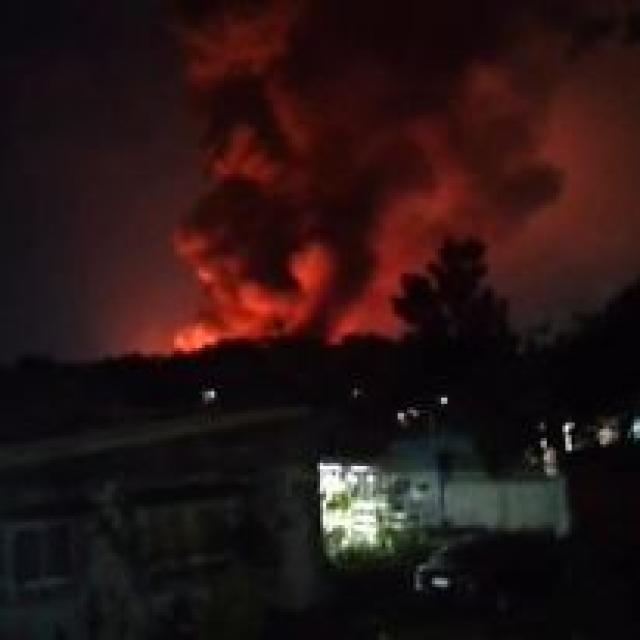Fire: (164, 311, 342, 348)
Smoke: (167, 0, 554, 309)
